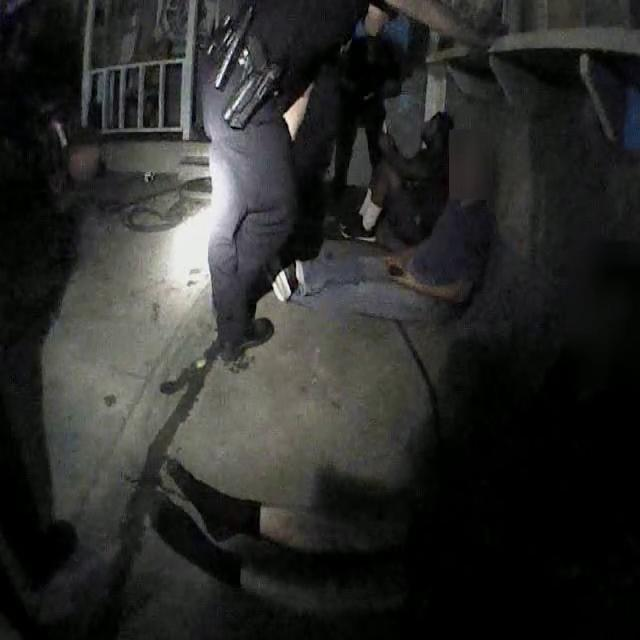gun: (222, 29, 281, 133)
